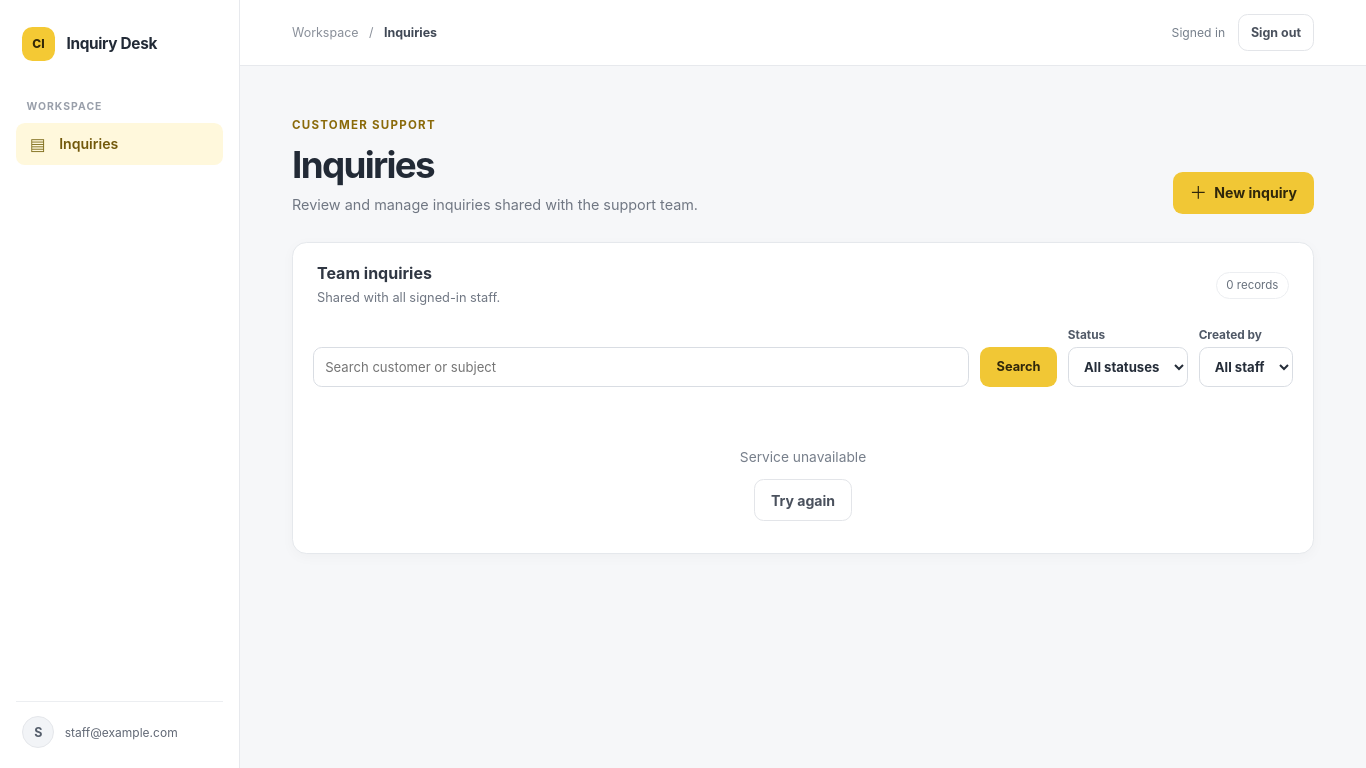
it: App › retries a failed inquiry-list request from the dashboard
expect the text "Service unavailable" is shown: met, box [740, 449, 866, 465]
Click the button "Try again".
click(803, 500)  # box [754, 479, 852, 521]
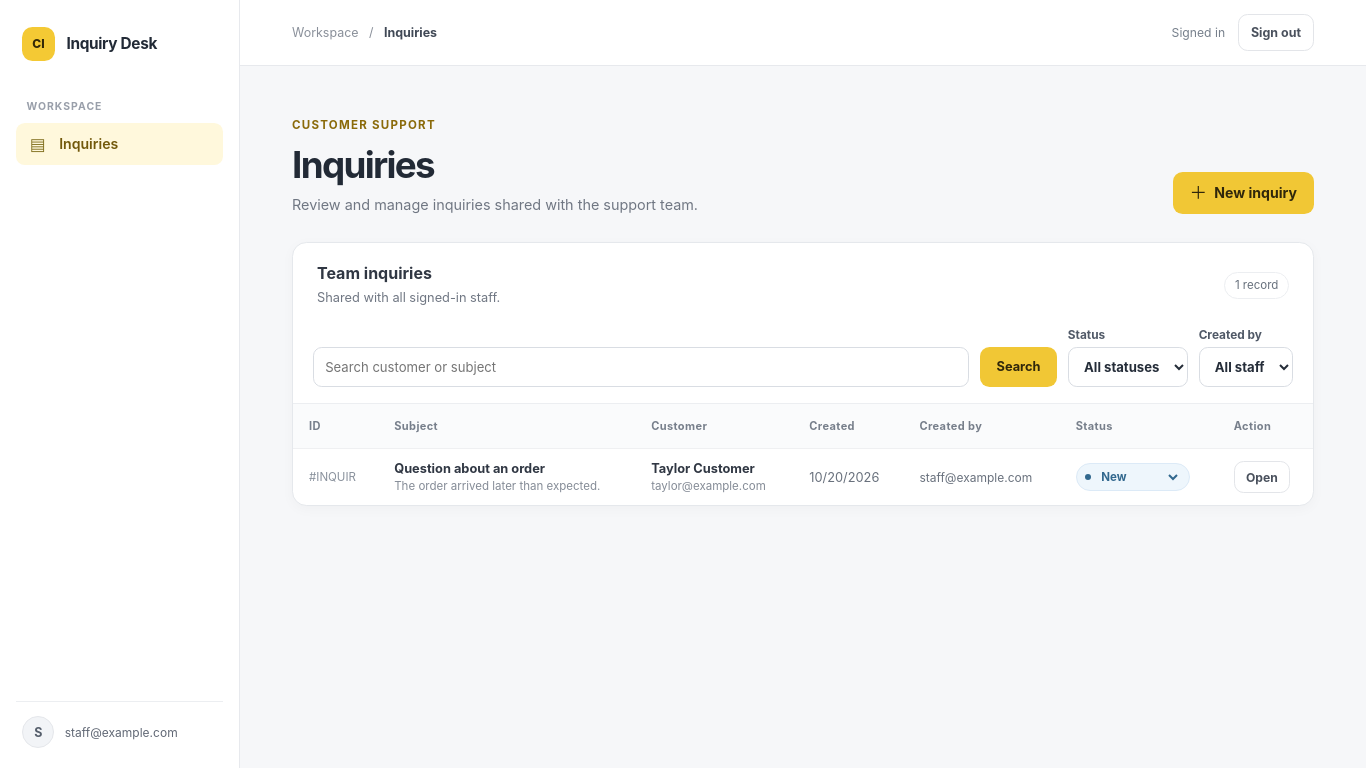
expect the text "Question about an order" is shown: met, box [394, 461, 545, 476]
